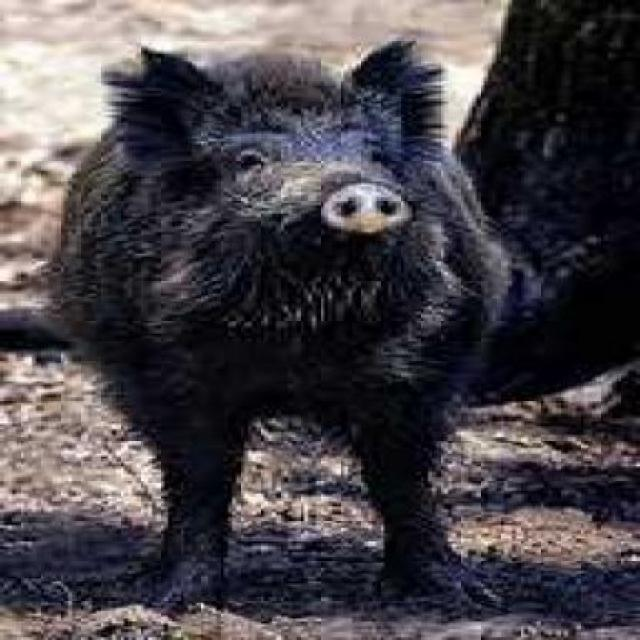pig: (43, 24, 568, 592)
